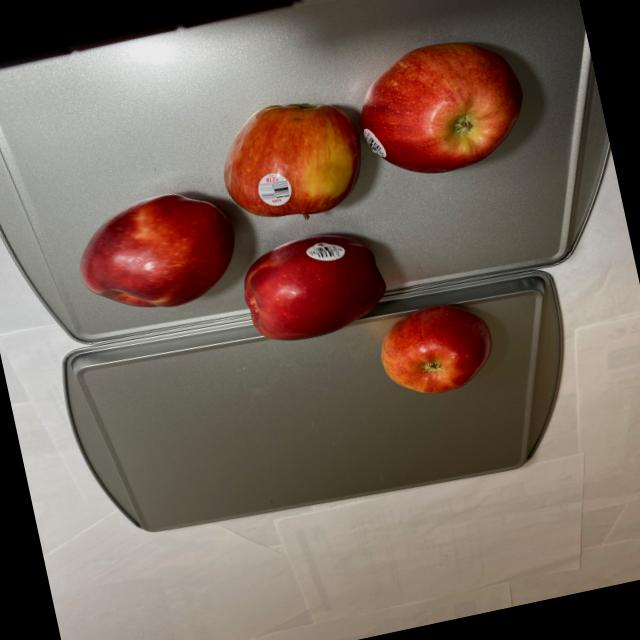apple: (47, 20, 568, 382), (372, 290, 508, 404)
